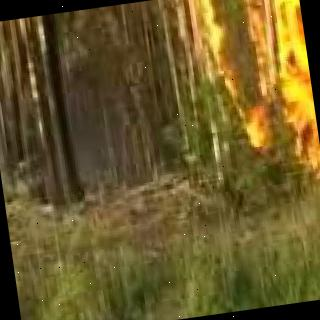fire: (240, 0, 320, 157), (170, 0, 239, 103), (309, 177, 320, 205)
